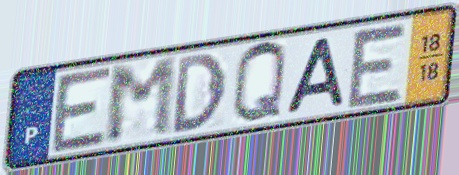A: (281, 34, 348, 117)
D: (171, 49, 229, 137)
E: (48, 63, 116, 158), (344, 21, 411, 111)
M: (104, 54, 179, 148)
Q: (229, 39, 289, 128)
